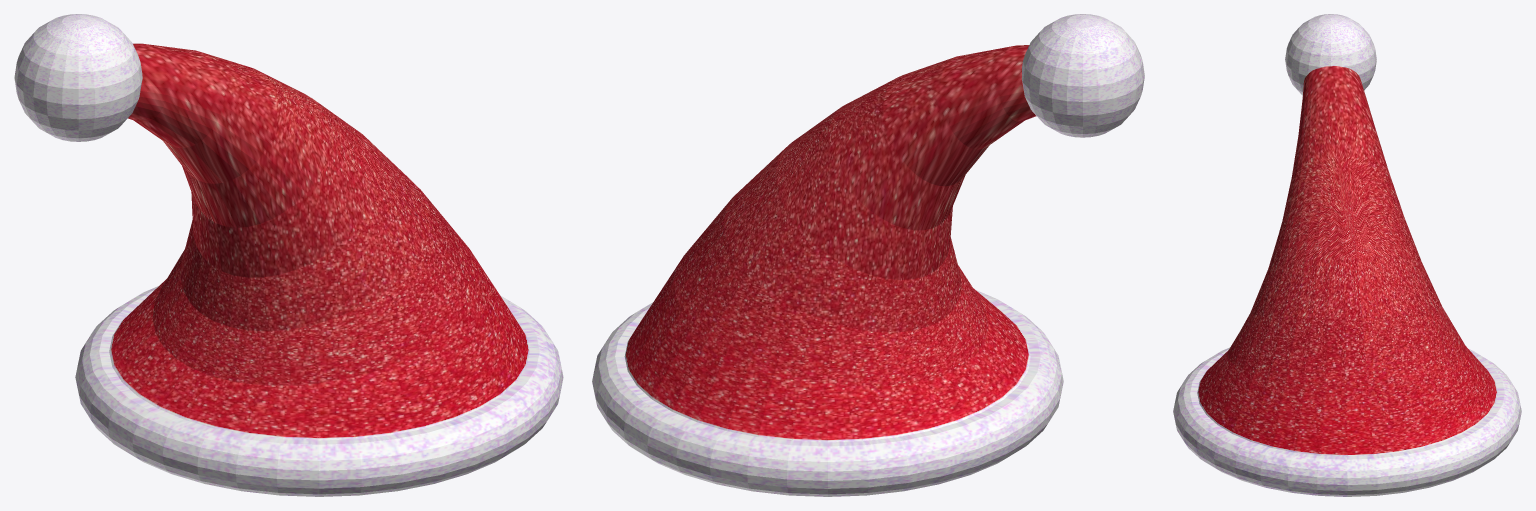
Rendered from chris.obj.
The picture shows the model from 3 angles, left to right: view 1: azimuth 30°, elevation 25°; view 2: azimuth 150°, elevation 25°; view 3: azimuth 270°, elevation 25°; orthographic projection. The views are drawn at different scales.
Visible parts, largest first — view 1: Santa_Hat, Sphere; view 2: Santa_Hat, Sphere; view 3: Santa_Hat, Sphere.
Boxes of the visible parts, bbox=[...] form: Santa_Hat: bbox=[75, 43, 563, 496]; Sphere: bbox=[14, 14, 142, 141]; Santa_Hat: bbox=[592, 45, 1063, 496]; Sphere: bbox=[1021, 14, 1144, 137]; Santa_Hat: bbox=[1173, 66, 1521, 496]; Sphere: bbox=[1285, 14, 1376, 95].
Bounding box in the file's own units: 59.34 × 50.49 × 48.3.
